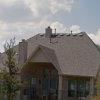Chimney: (38, 24, 63, 40)
